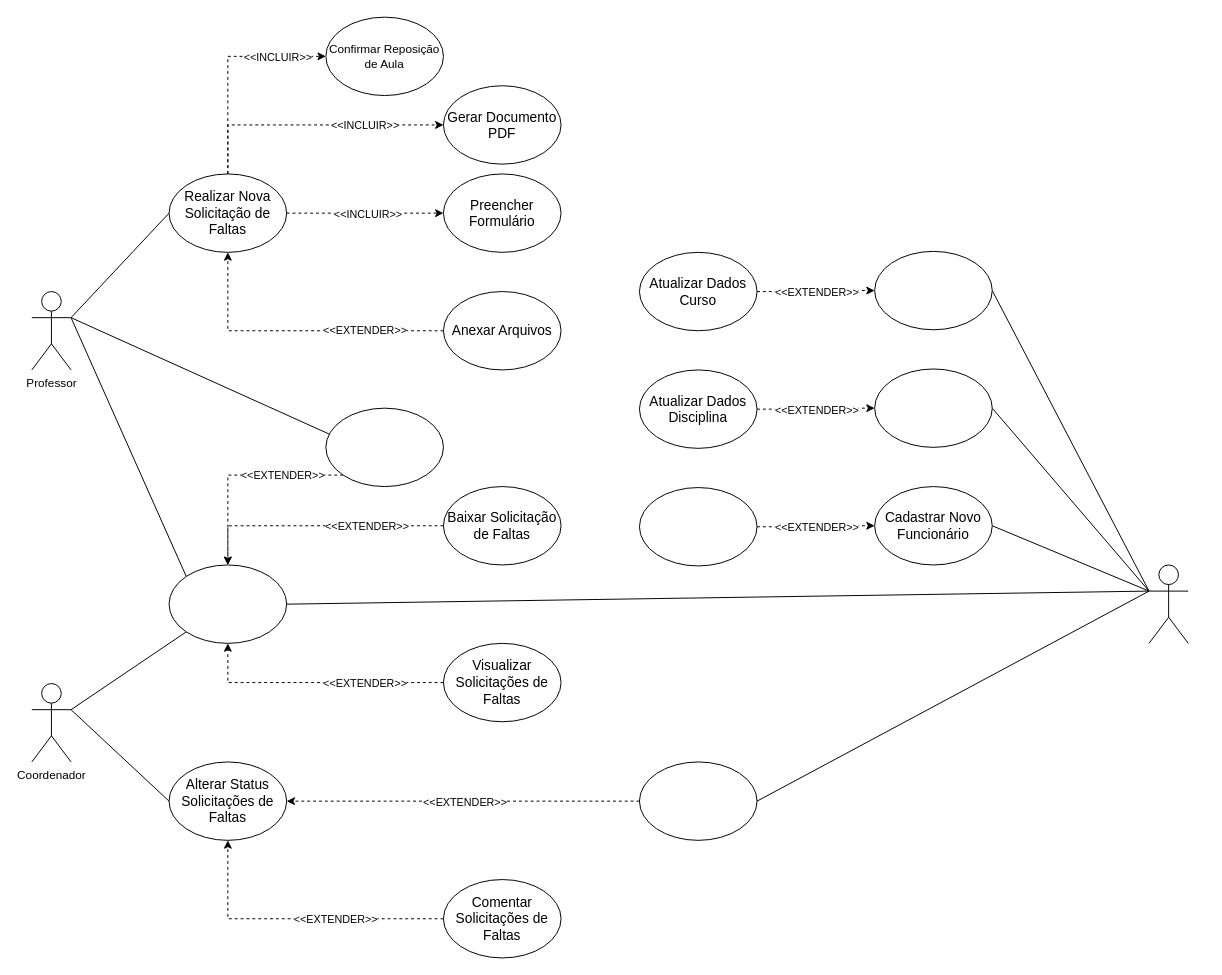
Image size: 1222x975. Some labels were removed from this diagram. Each missing label, with the centre of its shape:
"Administrativo" goes at point 1168,603.
"Atualizar Dados Funcionário" goes at point 697,526.
"Cadastrar Nova Disciplina" goes at point 933,407.
"Cadastrar Novo Curso" goes at point 933,290.
"Corrigir Informações" goes at point 384,447.
"Finalizar Requisições Aprovadas" goes at point 697,800.
"Pesquisar Solicitação de Faltas" goes at point 227,603.
